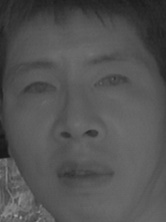eye: (93, 69, 131, 94), (18, 78, 58, 100)
mouth: (53, 156, 118, 194)
